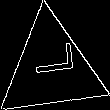L_W: (26, 50, 76, 87)
